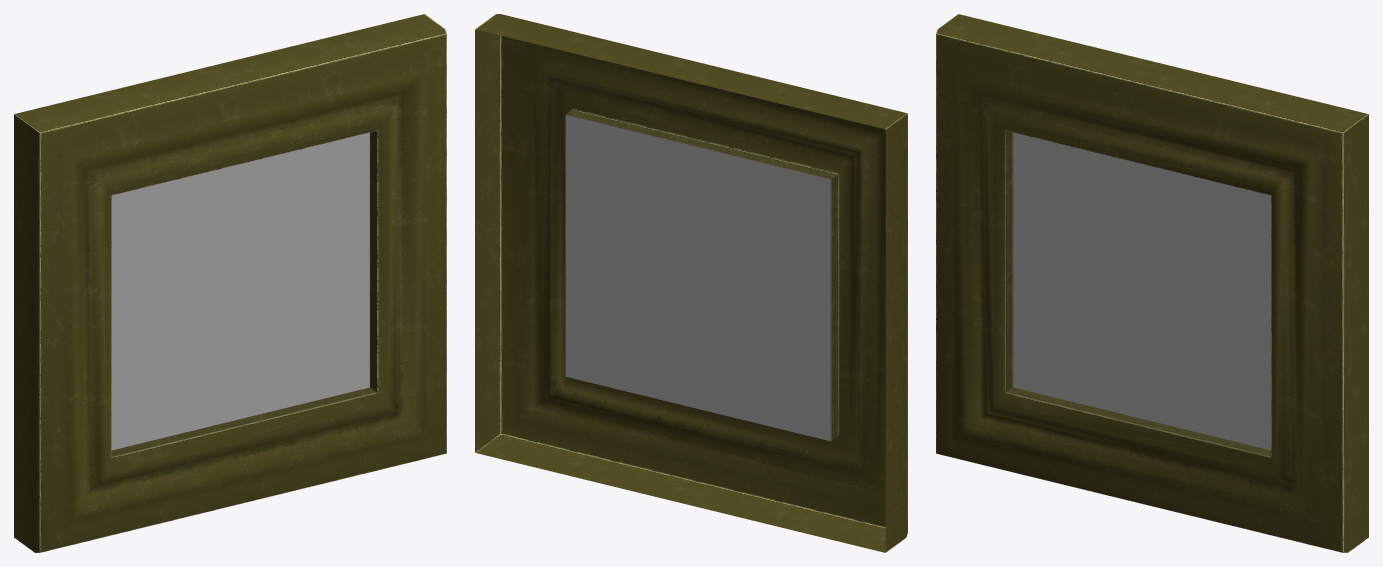
The model's file is 3DArt_Props_PictureFrame_Model_Amanda_03.fbx.
The picture shows the model from 3 angles, left to right: view 1: azimuth 30°, elevation 25°; view 2: azimuth 150°, elevation 25°; view 3: azimuth 330°, elevation 25°; orthographic projection.
Visible parts, largest first — view 1: Plane016; view 2: Plane016; view 3: Plane016.
Boxes of the visible parts, <box> form: Plane016: <box>14,14,446,552</box>; Plane016: <box>475,14,907,552</box>; Plane016: <box>936,14,1368,552</box>.
Size of the model in its own units: 103 by 101 by 12.47.
